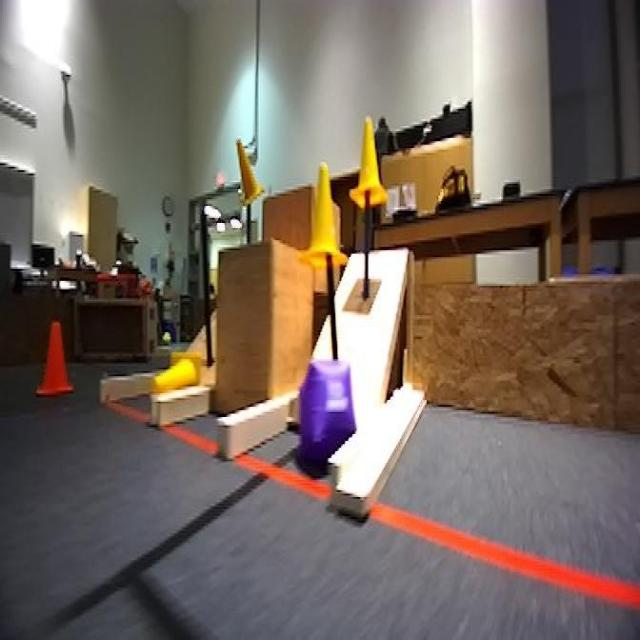frc_cone: (354, 126, 392, 218), (308, 165, 344, 262), (156, 344, 205, 396), (236, 138, 265, 209)
frc_cube: (286, 366, 344, 454)
